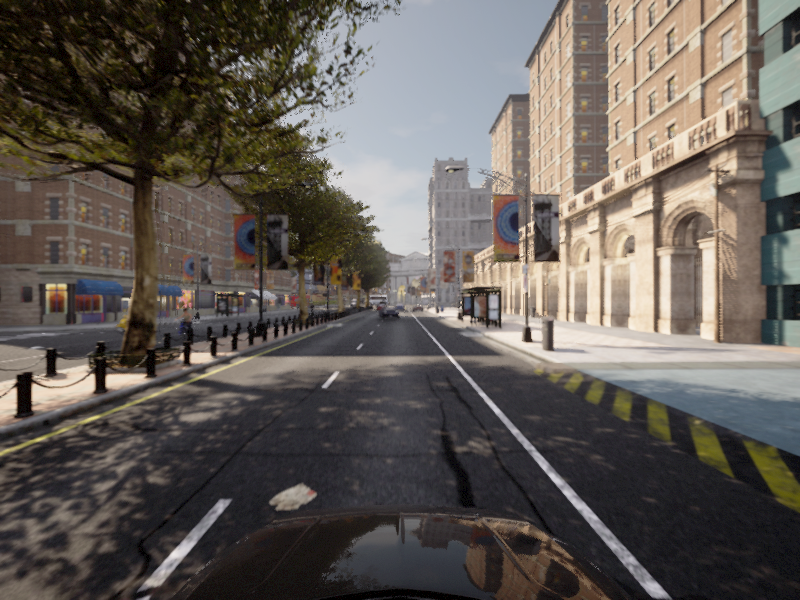vehicle: (168, 308, 200, 340), (111, 307, 149, 333), (377, 306, 399, 319)
